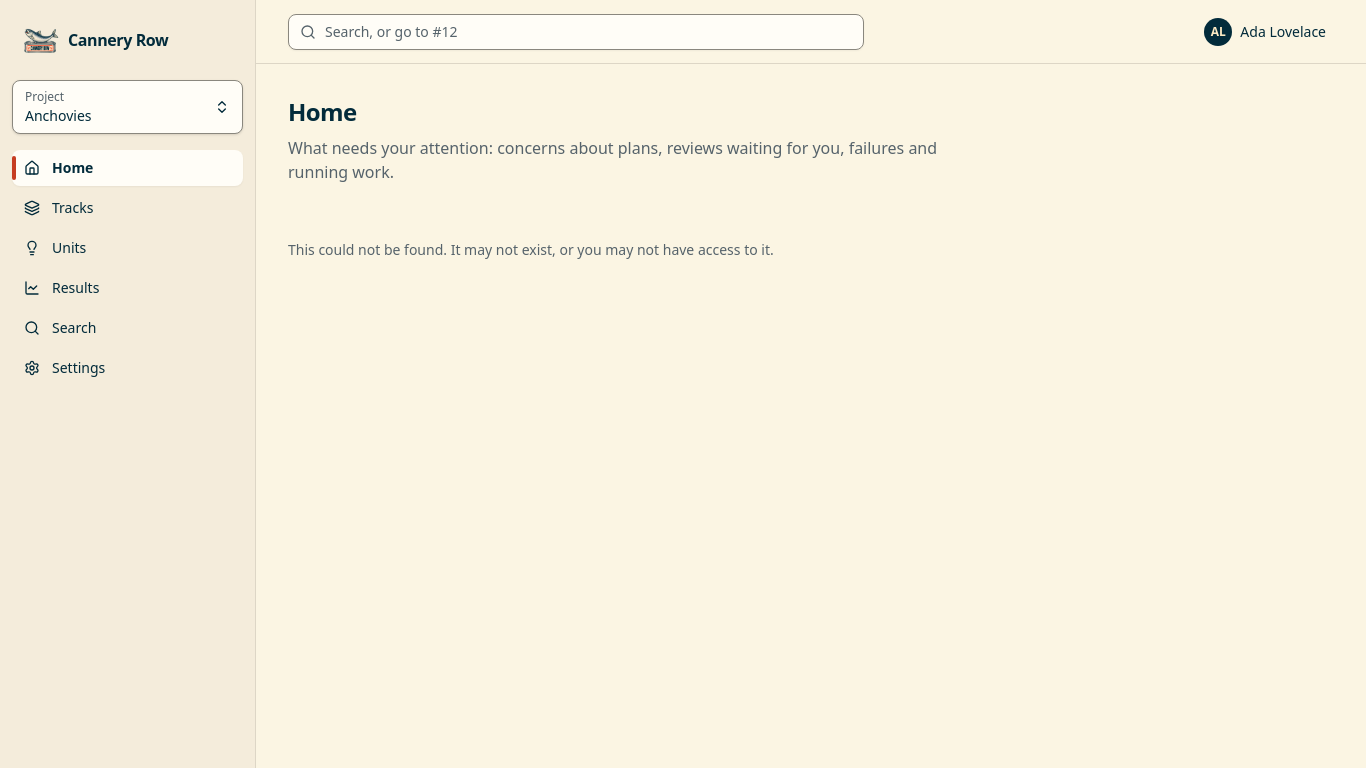
project switcher › switches between several projects
Click the button with aria-label "Switch project". click: (128, 107)
box: [12, 80, 243, 134]
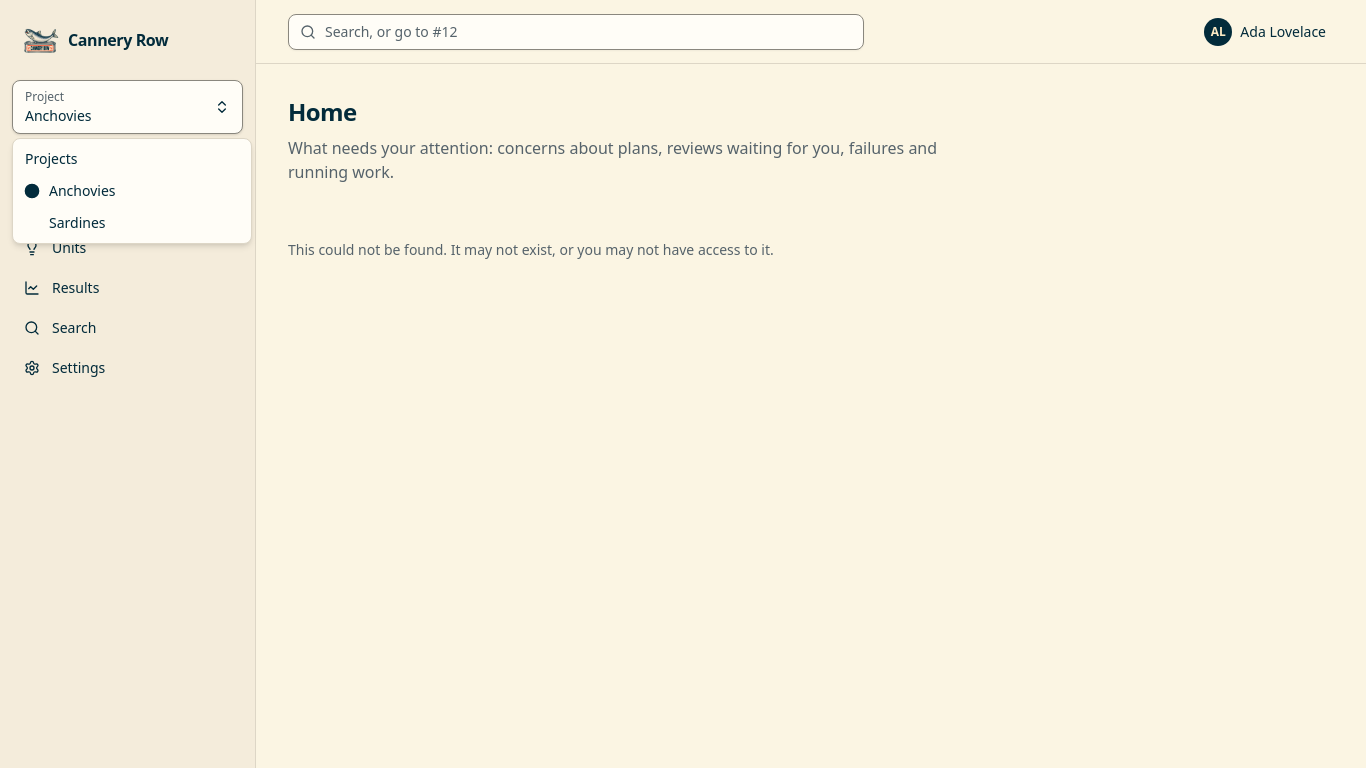
Click the menu item "Sardines". click: (77, 222)
box: [49, 213, 106, 232]
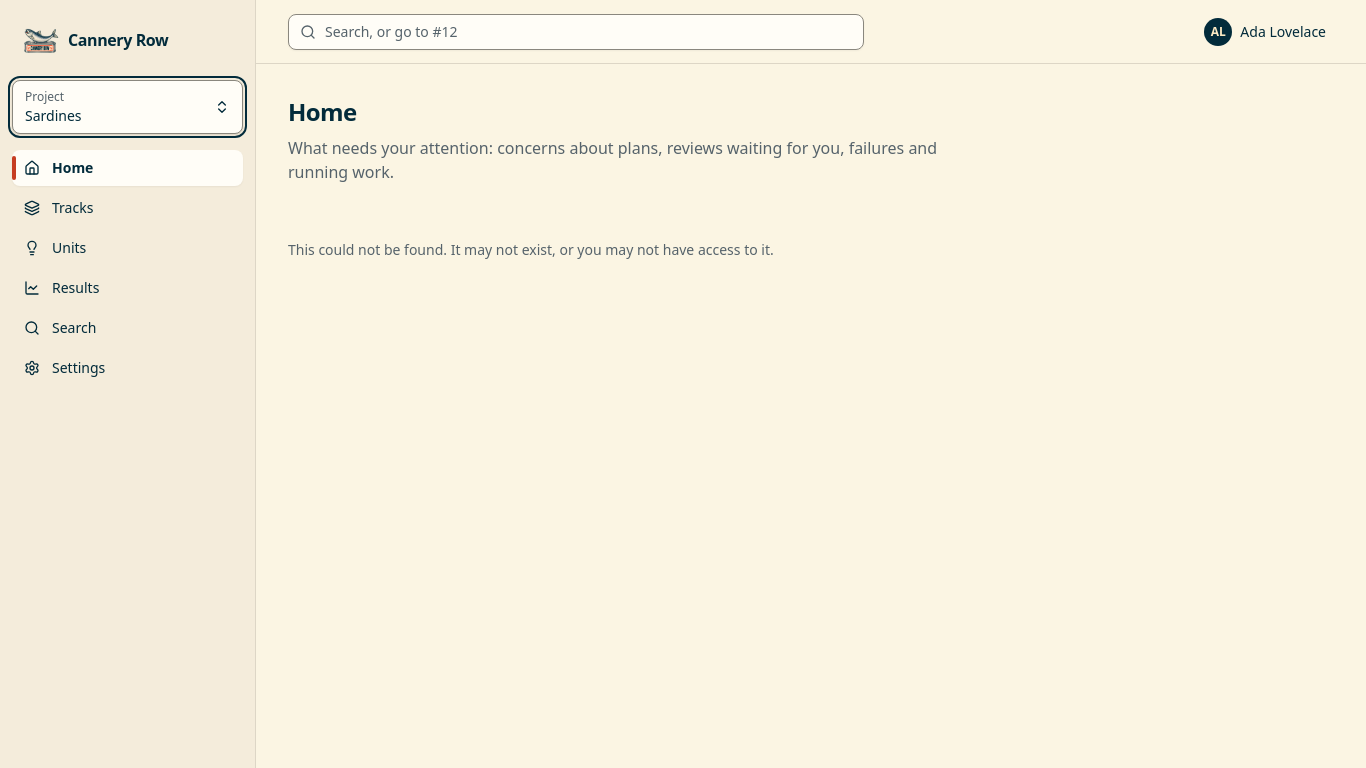
Expected: the button with aria-label "Switch project" shows "Sardines", [12, 80, 243, 134]
